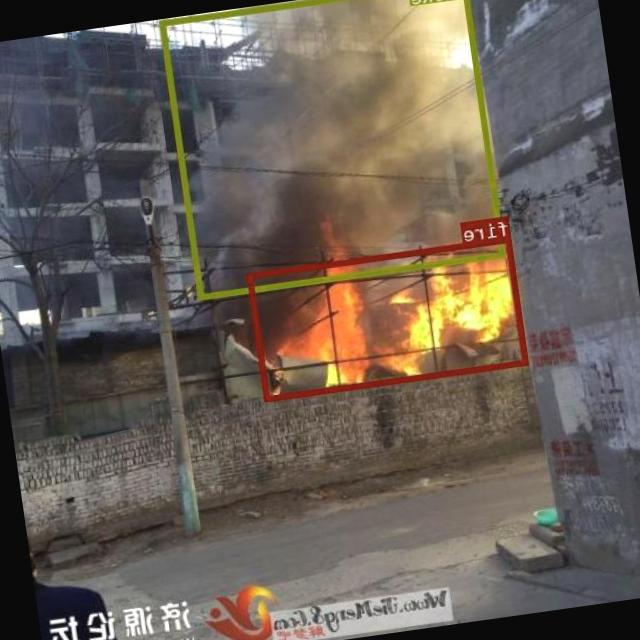fire: (248, 236, 530, 402)
smoke: (161, 0, 507, 299)
